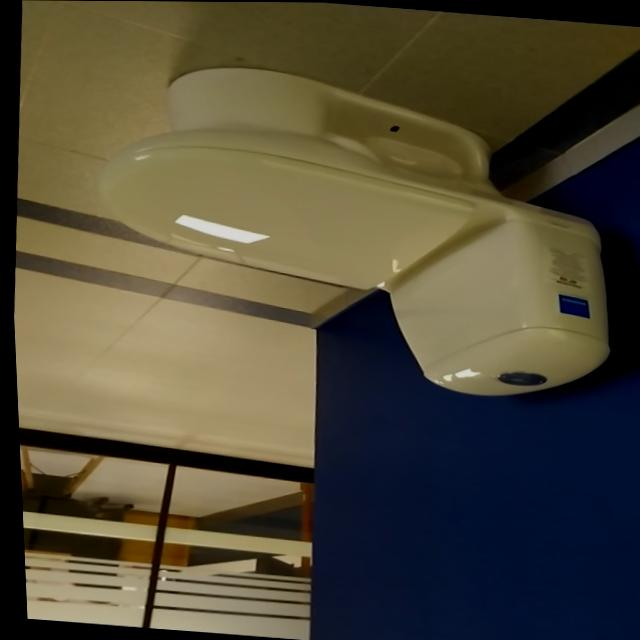toilet: (78, 55, 627, 406)
